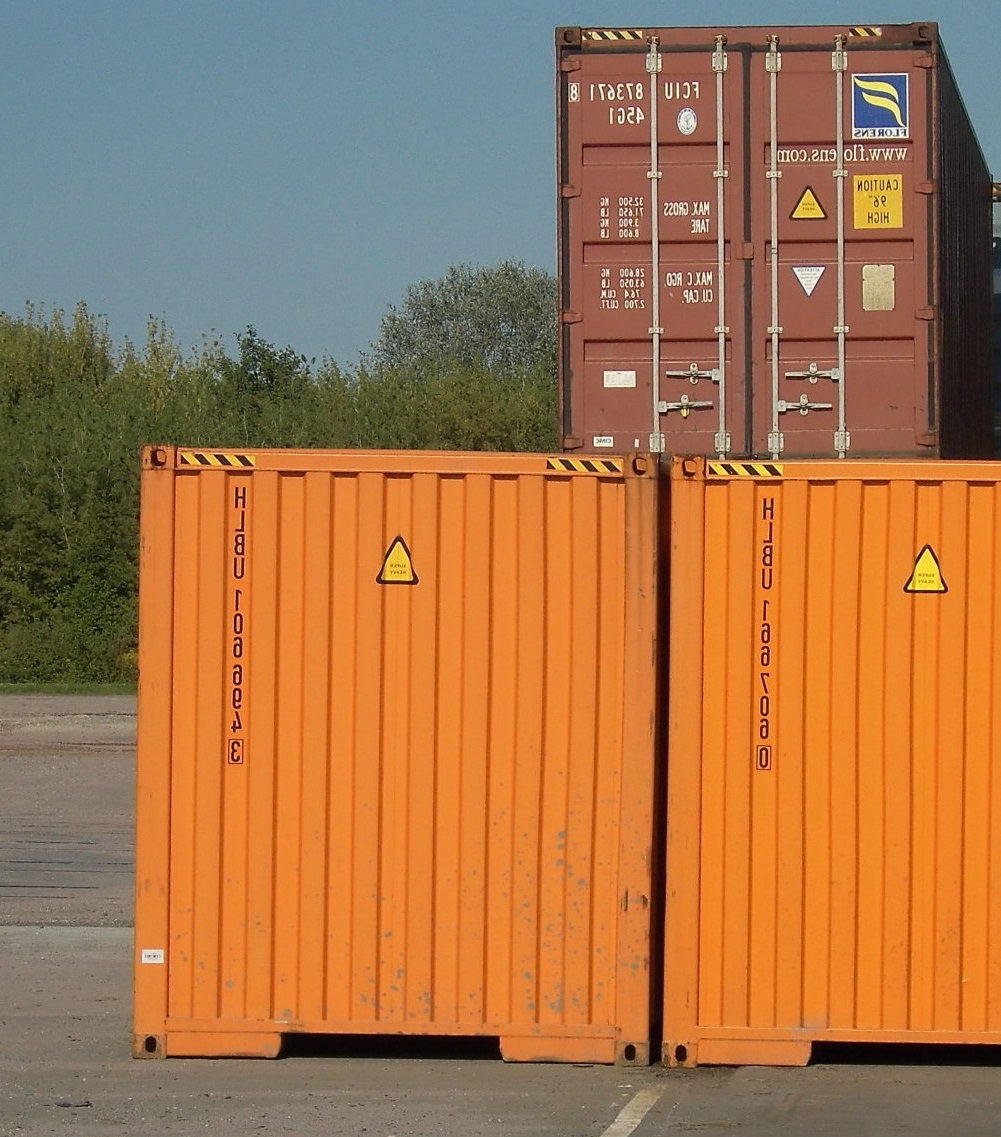container_door: (557, 20, 940, 451)
container_no_door: (138, 454, 660, 1053), (657, 455, 1001, 1064)
